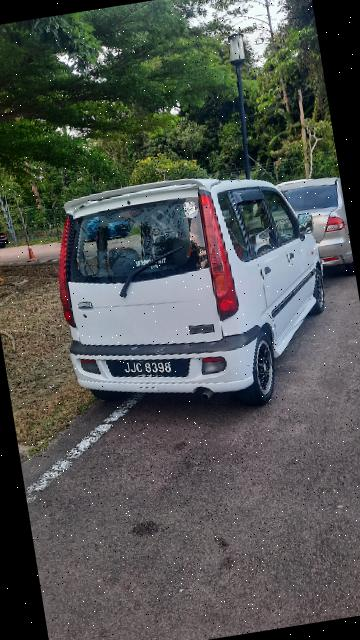License_Plate: (101, 341, 200, 394)
car: (34, 149, 360, 440)
